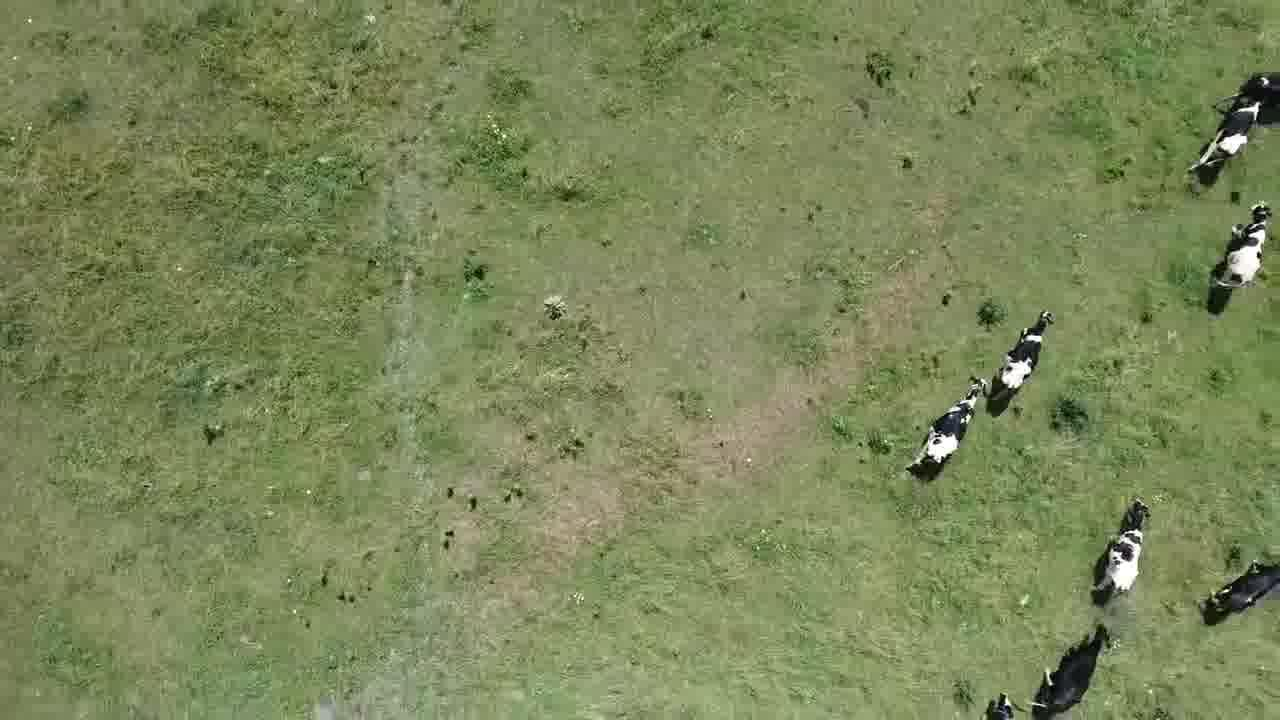cow: (906, 371, 990, 479), (1190, 82, 1267, 182), (1086, 495, 1156, 605), (1036, 621, 1114, 715), (986, 306, 1057, 407), (1209, 194, 1273, 296), (1200, 560, 1280, 625), (986, 688, 1017, 720)
